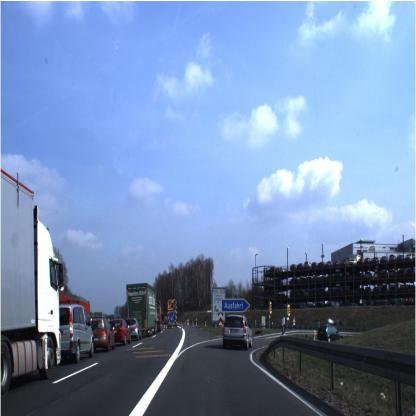mandatory: (167, 307, 176, 326)
